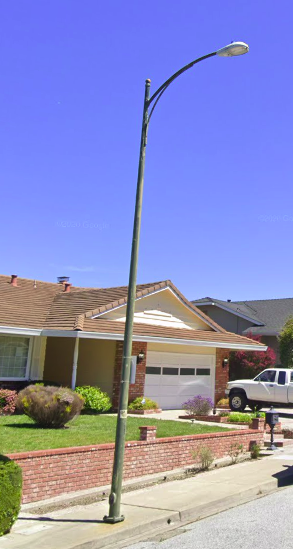pole: (121, 36, 255, 275)
